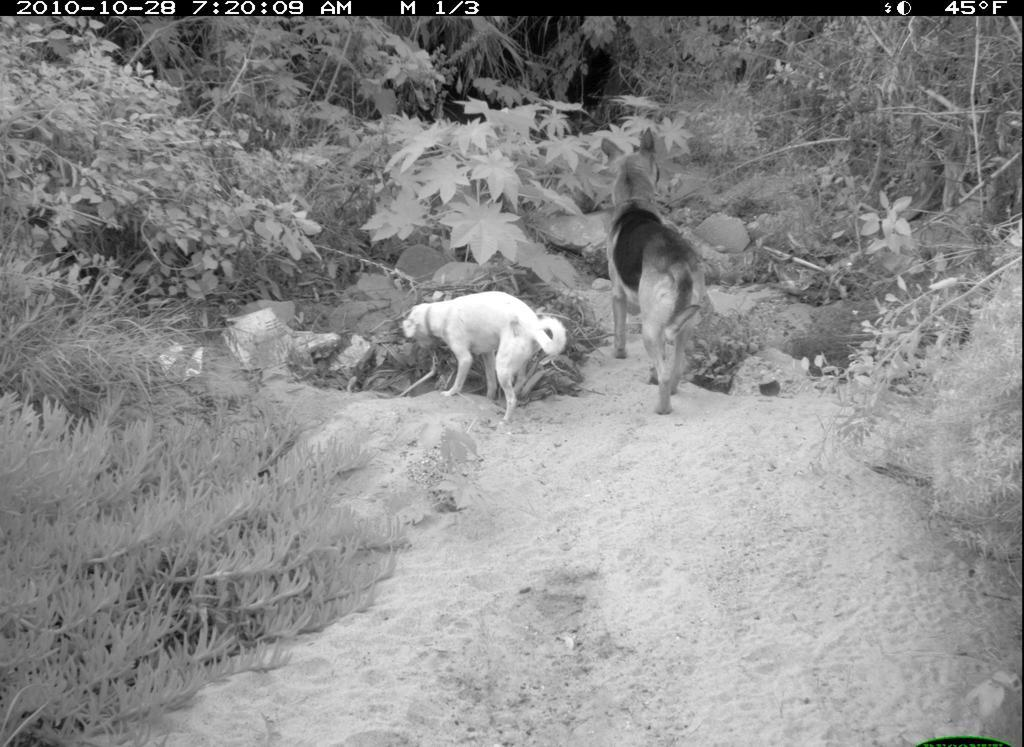dog: (594, 123, 726, 428), (393, 285, 579, 433)
